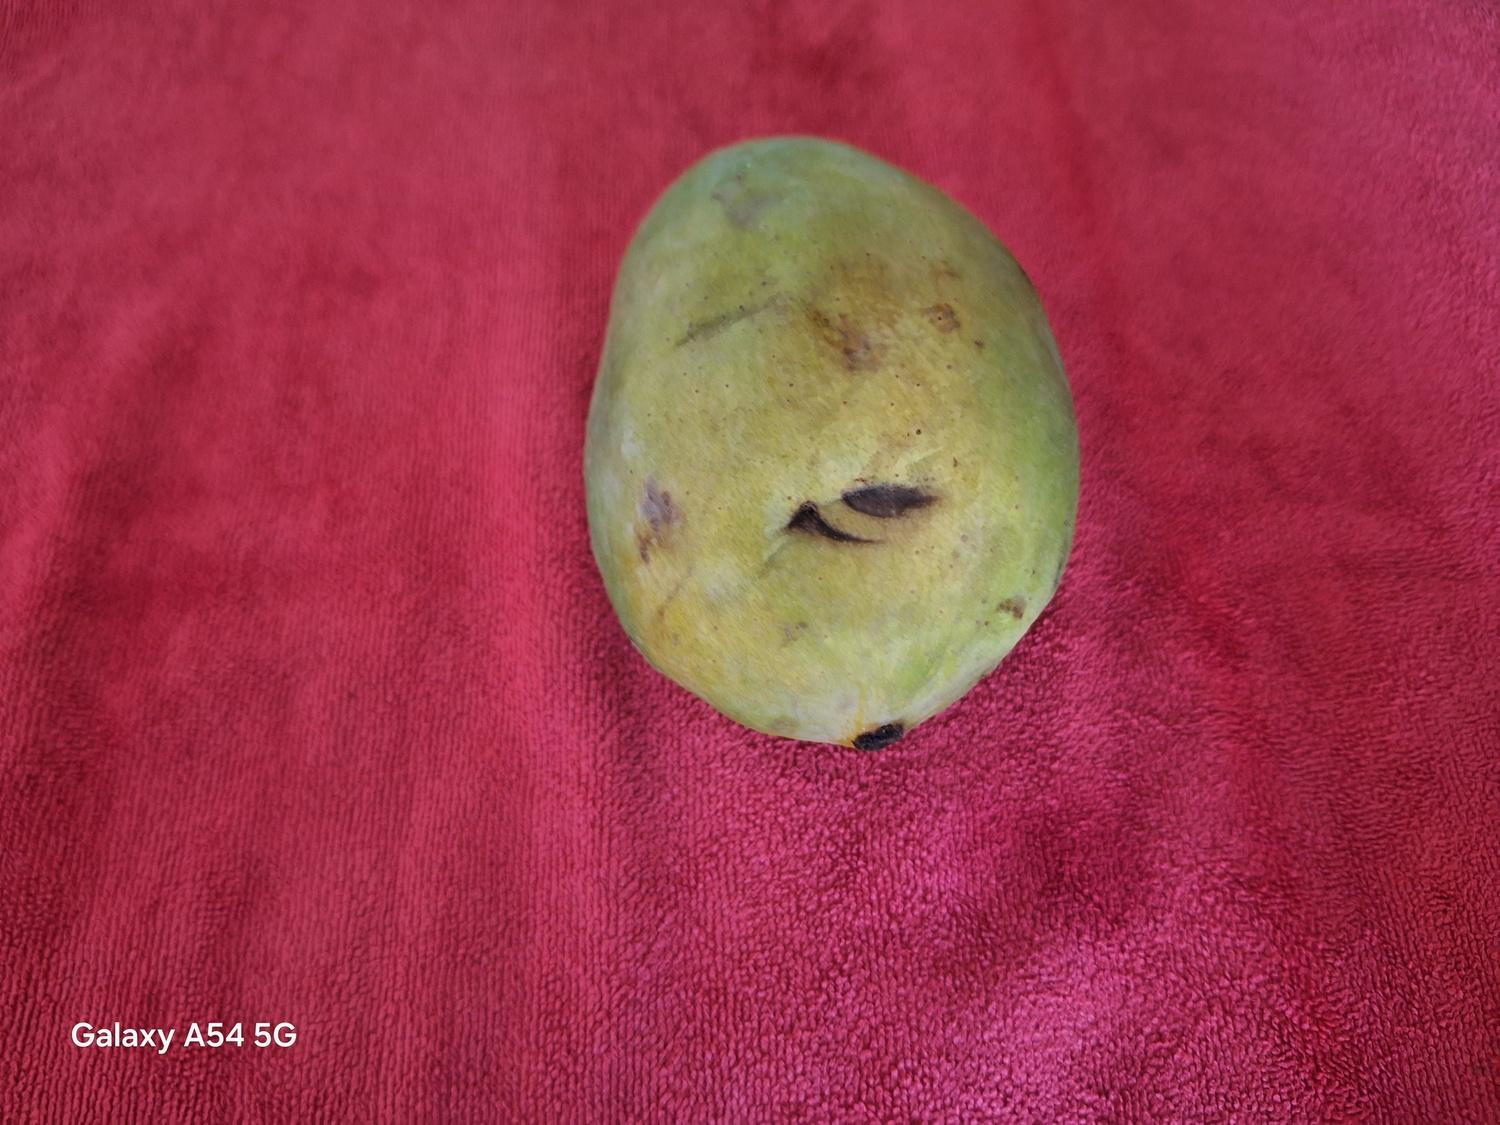mango: (580, 132, 1082, 752)
